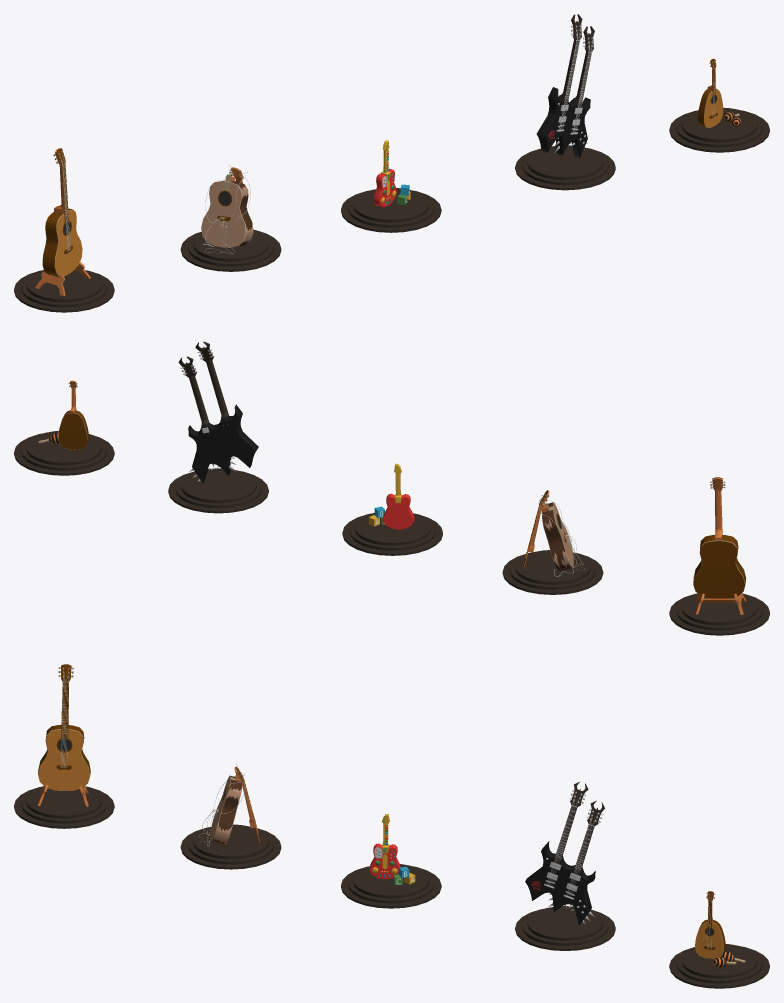
The model's file is music.glb.
The picture shows the model from 3 angles, top to bottom: view 1: azimuth 30°, elevation 25°; view 2: azimuth 150°, elevation 25°; view 3: azimuth 330°, elevation 25°; orthographic projection.
Parts seen in each view (by area): view 1: polySurface429, pCylinder185, polySurface739, pCylinder184, pCylinder188, pCylinder186, pCylinder187, polySurface958, pCylinder180, polySurface738, polySurface993; view 2: polySurface429, pCylinder185, pCylinder187, pCylinder188, pCylinder186, pCylinder184, polySurface958, polySurface739, polySurface738, pCylinder180; view 3: polySurface429, pCylinder185, pCylinder188, pCylinder187, pCylinder186, pCylinder184, polySurface958, polySurface739, pCylinder180, polySurface738, polySurface993.
Part boxes in pixels (x1,y1,x2,y2): polySurface429: [536, 14, 594, 157]; pCylinder185: [515, 145, 615, 190]; polySurface739: [201, 165, 253, 253]; pCylinder184: [341, 188, 441, 232]; pCylinder188: [14, 270, 114, 312]; pCylinder186: [669, 107, 769, 152]; pCylinder187: [180, 229, 281, 271]; polySurface958: [42, 208, 82, 276]; pCylinder180: [698, 58, 741, 127]; polySurface738: [374, 140, 410, 207]; polySurface993: [54, 148, 68, 222]; polySurface429: [178, 341, 258, 483]; pCylinder185: [168, 468, 268, 513]; pCylinder187: [502, 550, 603, 594]; pCylinder188: [669, 593, 769, 635]; pCylinder186: [14, 431, 114, 475]; pCylinder184: [342, 511, 442, 555]; polySurface958: [693, 535, 745, 598]; polySurface739: [523, 490, 585, 576]; polySurface738: [368, 463, 414, 529]; pCylinder180: [38, 380, 88, 449]; polySurface429: [525, 782, 604, 925]; pCylinder185: [515, 906, 615, 950]; pCylinder188: [14, 786, 114, 828]; pCylinder187: [180, 824, 281, 869]; pCylinder186: [669, 944, 769, 988]; pCylinder184: [341, 864, 441, 908]; polySurface958: [38, 725, 90, 790]; polySurface739: [199, 763, 260, 846]; pCylinder180: [695, 891, 745, 967]; polySurface738: [369, 814, 415, 885]; polySurface993: [61, 664, 71, 738].
Size of the model in its own units: 36.7 by 7.07 by 4.31.
20 materials, 1 textured.
